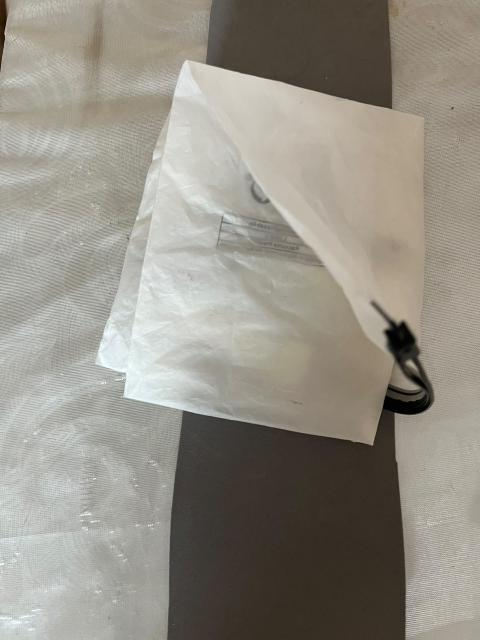LDPE: (77, 20, 459, 473)
